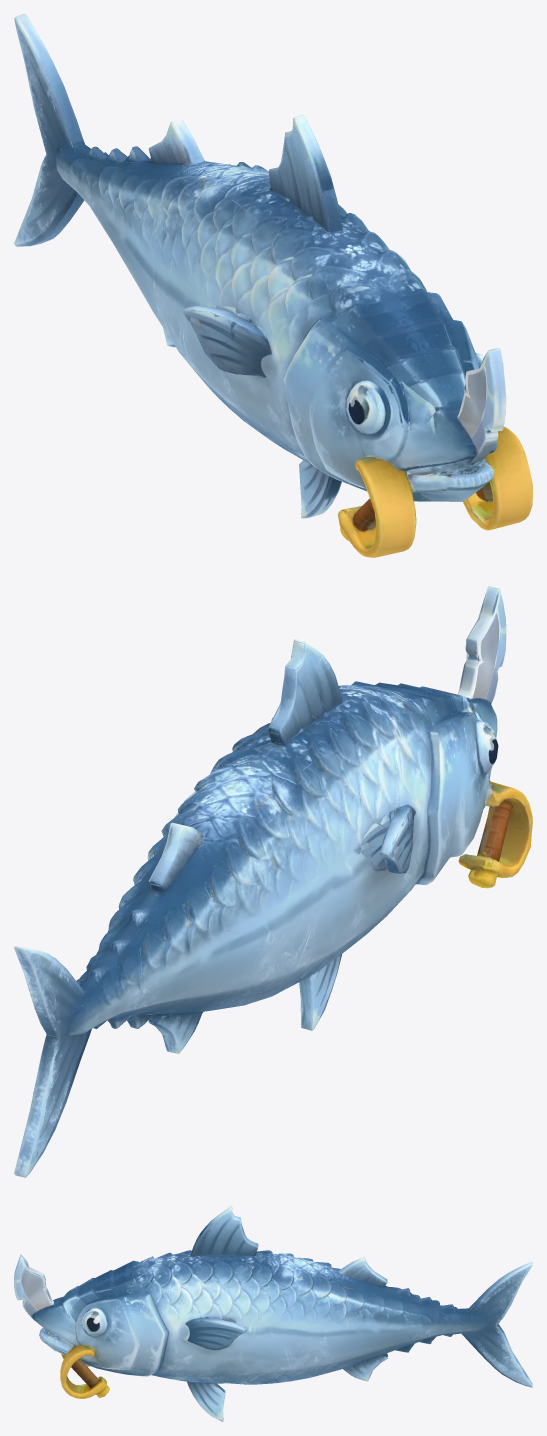
Rendered from frozen_mackerel.glb.
The picture shows the model from 3 angles, top to bottom: view 1: azimuth 30°, elevation 25°; view 2: azimuth 150°, elevation 25°; view 3: azimuth 270°, elevation 25°; orthographic projection. The views are drawn at different scales.
Parts seen in each view (by area): view 1: Mesh1.0; view 2: Mesh1.0; view 3: Mesh1.0.
Part boxes in pixels (x1,y1,x2,y2): Mesh1.0: [14, 14, 532, 557]; Mesh1.0: [14, 586, 532, 1177]; Mesh1.0: [14, 1206, 532, 1421].
Bounding box in the file's own units: 0.4723 × 0.8601 × 1.9.
Materials: 1 (1 with a texture image).
